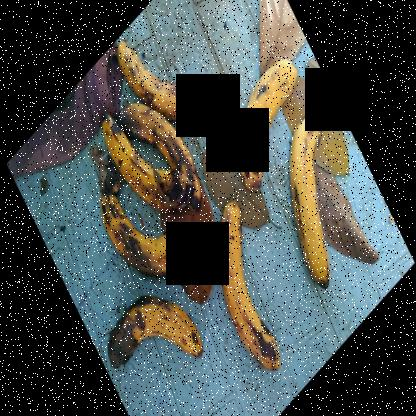overripe: (210, 200, 285, 380), (229, 56, 302, 193)
ripe: (283, 115, 342, 298)
rotten: (85, 8, 214, 138), (76, 179, 202, 289), (100, 285, 215, 395)
